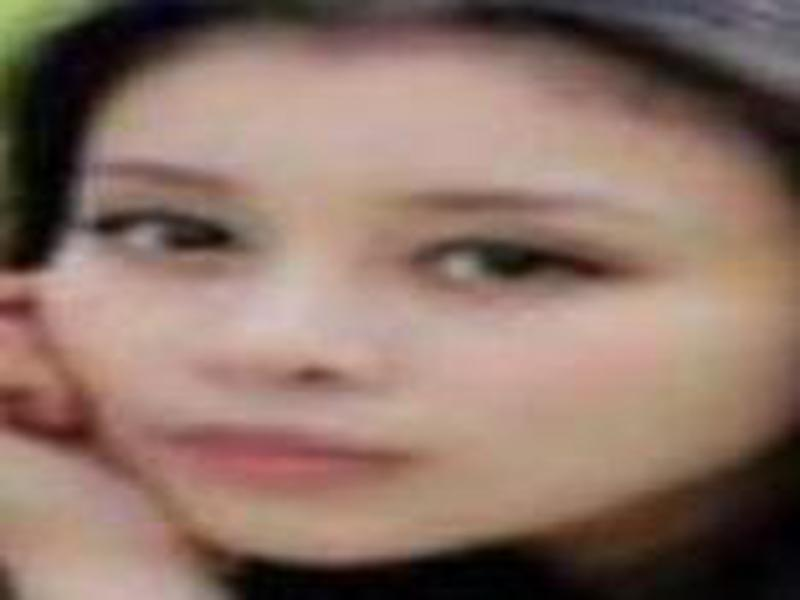without_mask: (39, 86, 787, 562)
